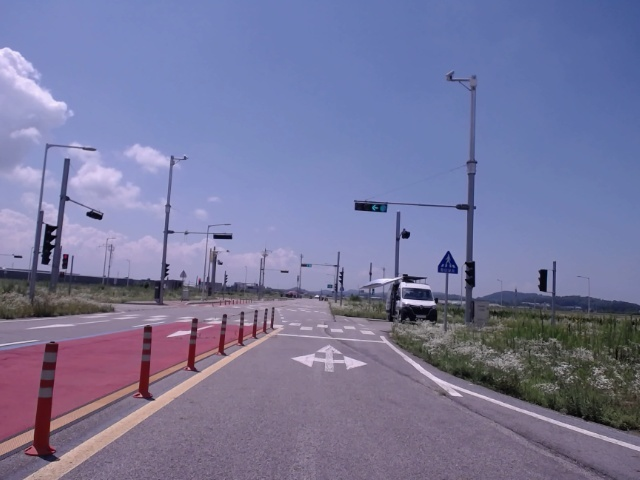all_green_4: (350, 198, 389, 210)
